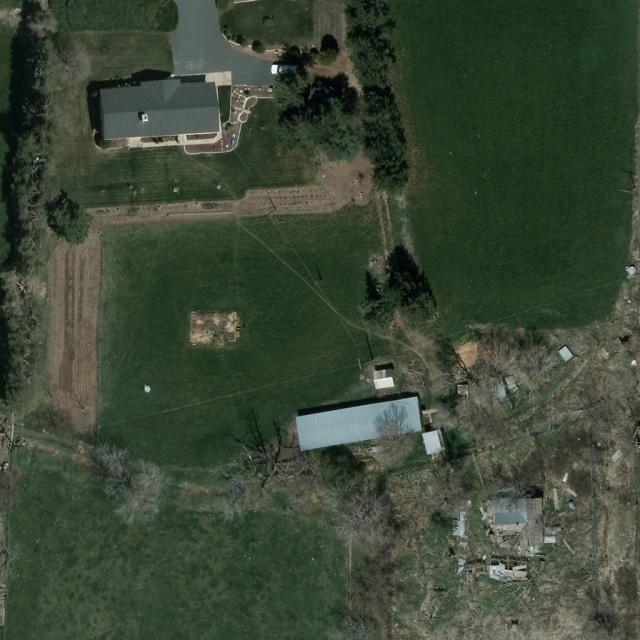vehicle: (270, 65, 300, 76)
